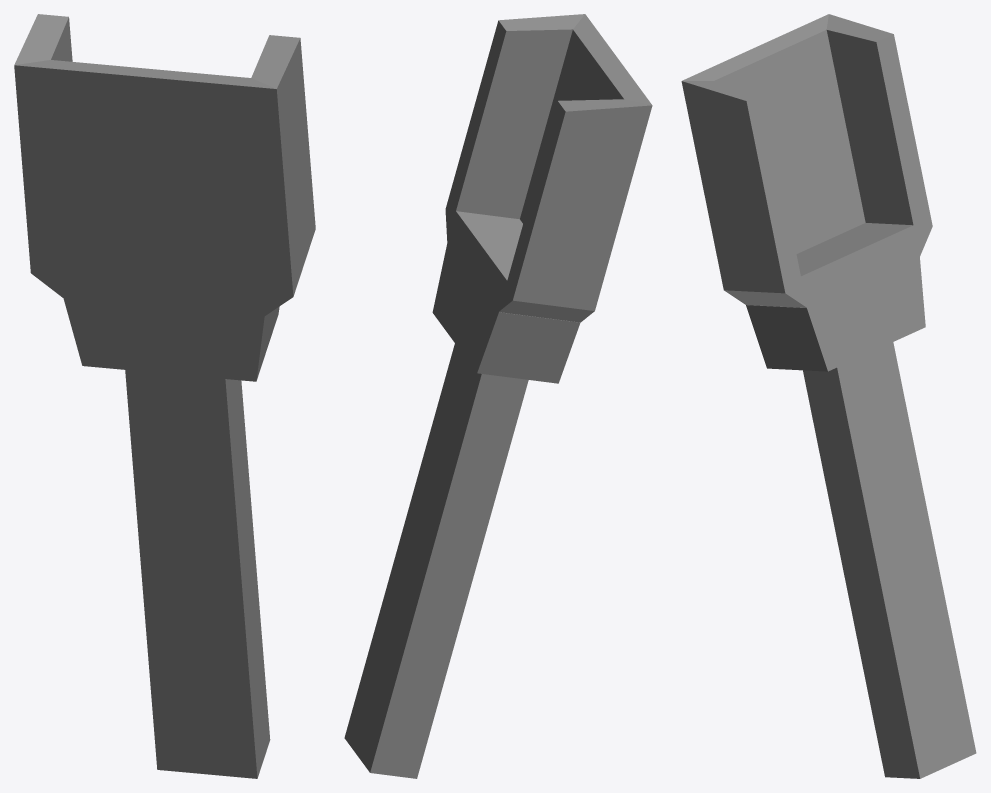
The model's file is Playground_scapula2.fbx.
3 views of the same model, side by side, from view 1: azimuth 30°, elevation 25°; view 2: azimuth 150°, elevation 25°; view 3: azimuth 270°, elevation 25° (orthographic). The views are drawn at different scales.
Parts seen in each view (by area): view 1: Playground_scapula2; view 2: Playground_scapula2; view 3: Playground_scapula2.
Part boxes in pixels (x1,y1,x2,y2): Playground_scapula2: (14, 14, 315, 778); Playground_scapula2: (344, 14, 652, 778); Playground_scapula2: (681, 14, 976, 778).
Size of the model in its own units: 12.3 by 30.63 by 12.42.
